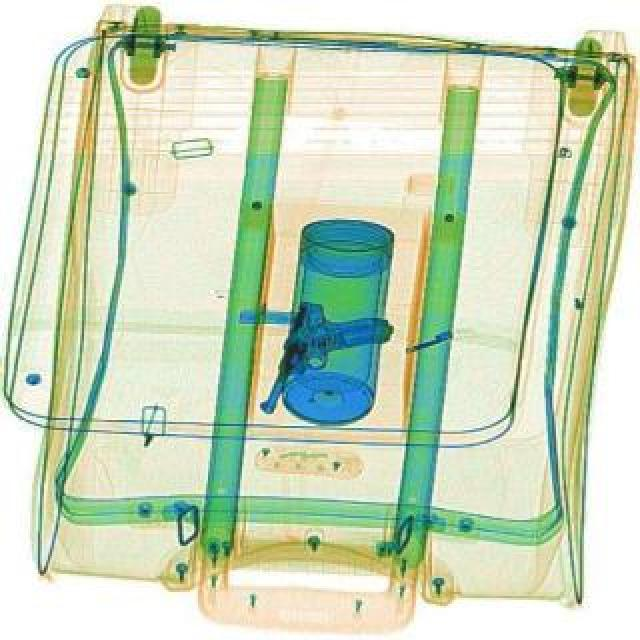gun: (258, 292, 400, 444)
